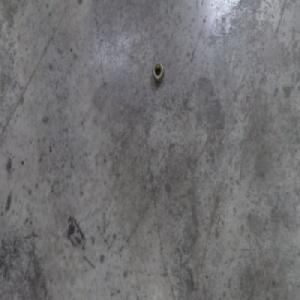Nut: (151, 60, 164, 85)
